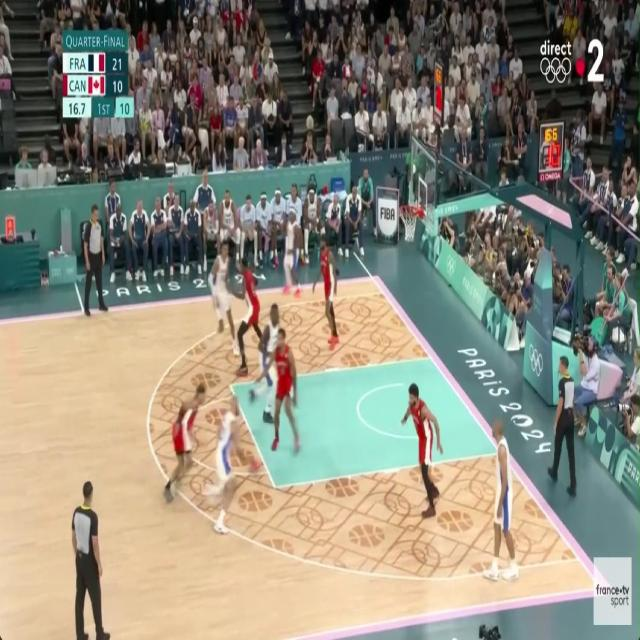ball_handler: (215, 398, 260, 534)
